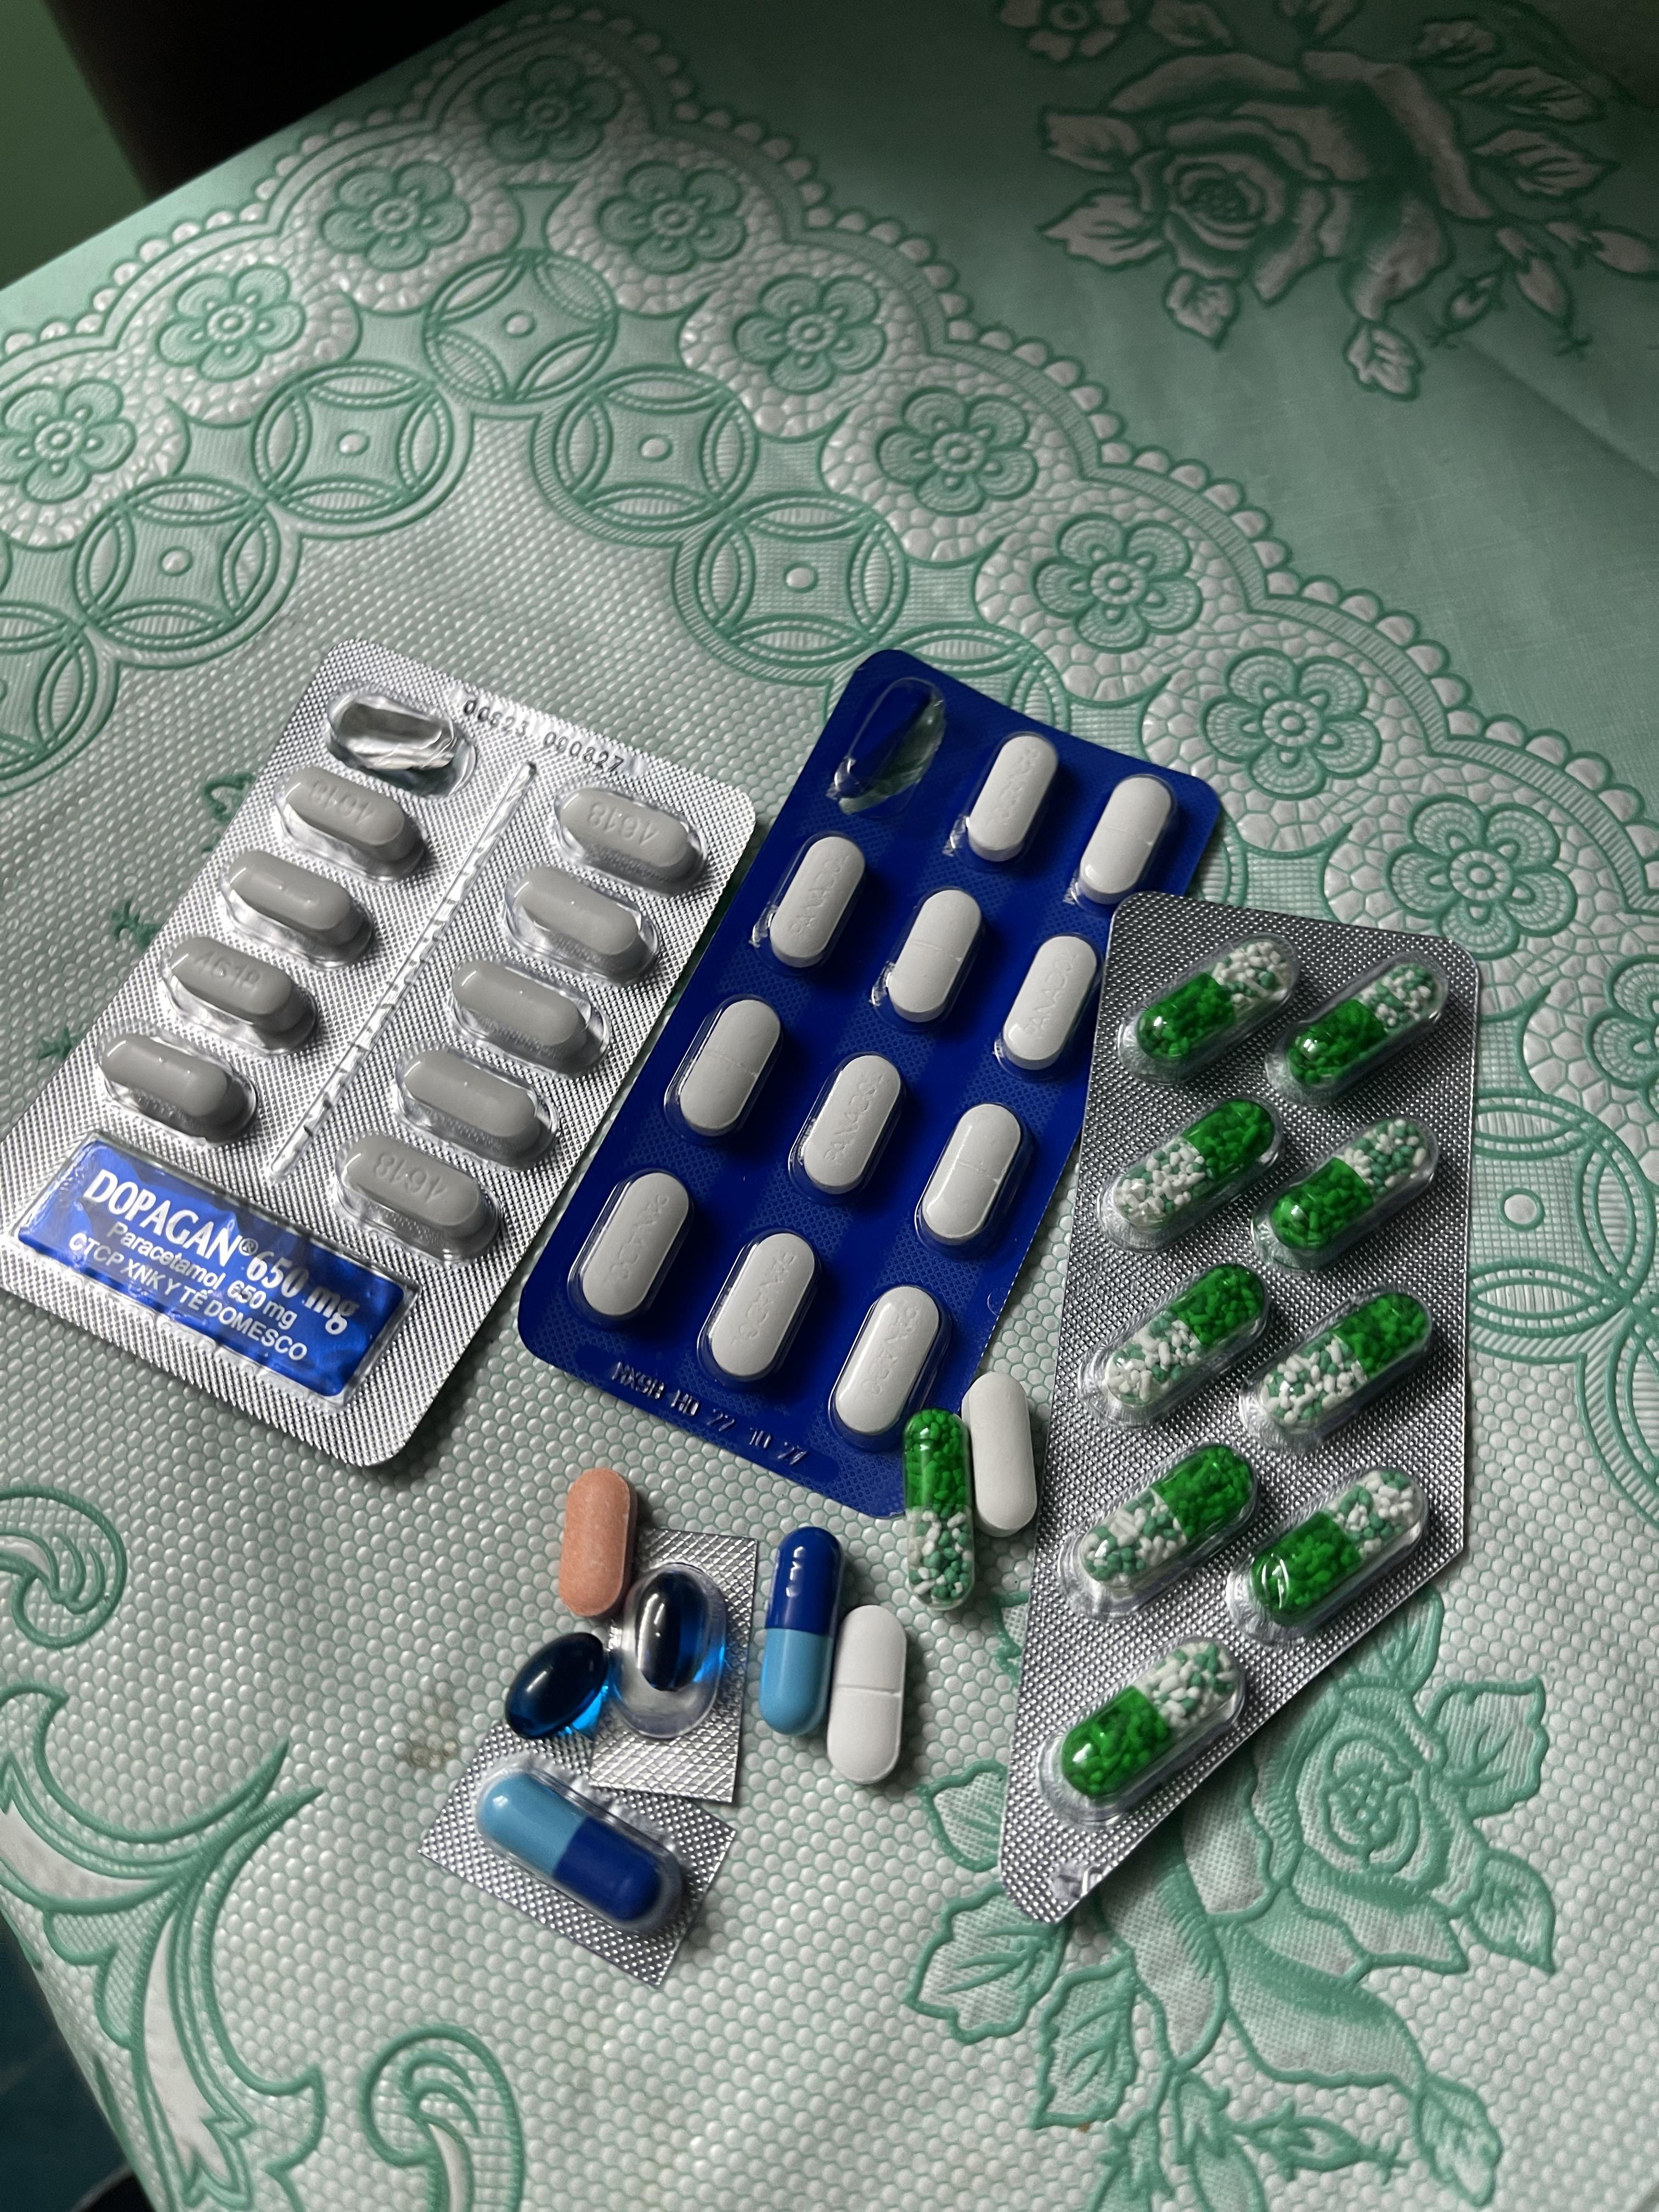Lincomyxin_500mg: (502, 1632, 613, 1745), (636, 1576, 702, 1693)
Loratadine_10mg: (559, 1468, 638, 1615)
Paracetamol_350mg: (699, 1230, 821, 1390), (570, 1174, 694, 1331), (831, 1285, 950, 1446), (791, 1047, 911, 1200), (915, 1101, 1032, 1256), (667, 993, 782, 1143), (880, 890, 986, 1029), (824, 1609, 906, 1787), (997, 935, 1100, 1076), (763, 834, 868, 970), (957, 733, 1060, 866), (1073, 773, 1175, 906)
Paracetamol_500mg: (333, 1129, 500, 1264), (392, 1049, 554, 1170), (450, 960, 601, 1083), (164, 937, 319, 1057), (218, 853, 375, 972), (504, 866, 655, 988), (98, 1031, 254, 1144), (556, 784, 708, 900), (275, 772, 429, 885), (960, 1371, 1037, 1526)
Paracetamol_650mg: (1241, 1292, 1434, 1463), (1246, 1465, 1424, 1629), (1091, 1261, 1265, 1425), (1068, 1642, 1236, 1801), (1084, 1444, 1251, 1595), (1267, 1120, 1432, 1252), (1117, 1101, 1277, 1237), (1288, 963, 1441, 1083), (1140, 942, 1295, 1061), (899, 1413, 976, 1599)
pill: (474, 1757, 688, 1937), (756, 1540, 840, 1733)
